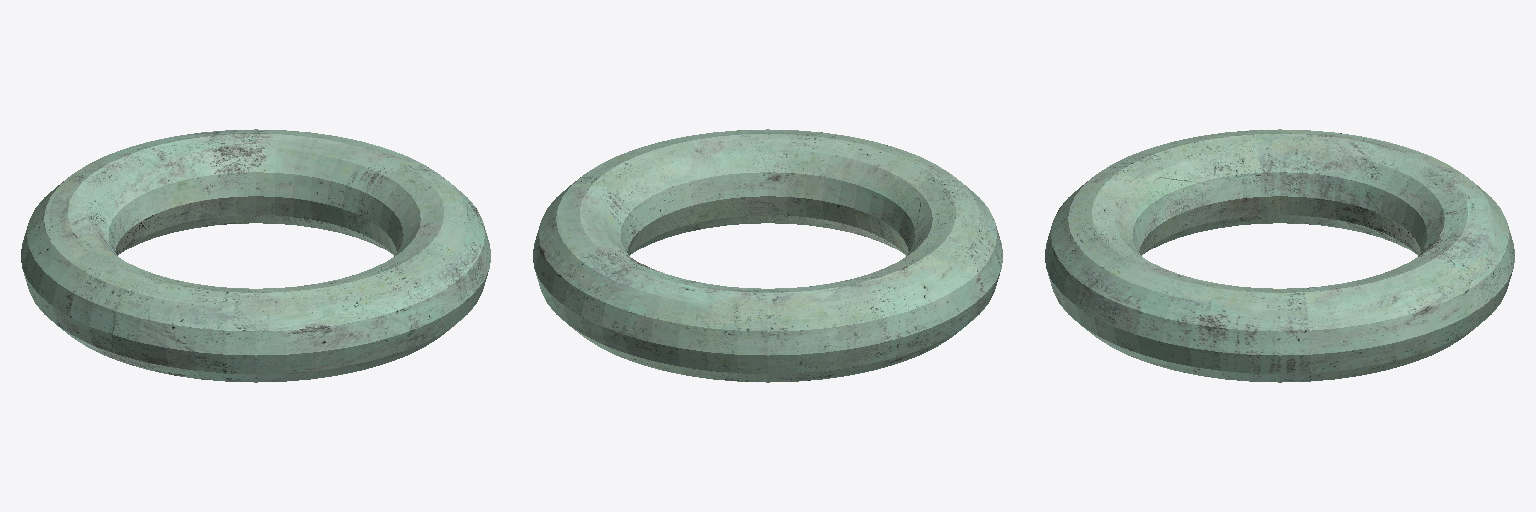
3 renders of one model, left to right at view 1: azimuth 30°, elevation 25°; view 2: azimuth 150°, elevation 25°; view 3: azimuth 270°, elevation 25°, orthographic.
Visible parts, largest first — view 1: Torus; view 2: Torus; view 3: Torus.
Boxes of the visible parts, x1=… form: Torus: x1=21, y1=129, x2=490, y2=382; Torus: x1=533, y1=129, x2=1002, y2=382; Torus: x1=1045, y1=129, x2=1514, y2=382.
Bounding box in the file's own units: 2.5 × 0.5 × 2.5.
Materials: 1 (1 with a texture image).